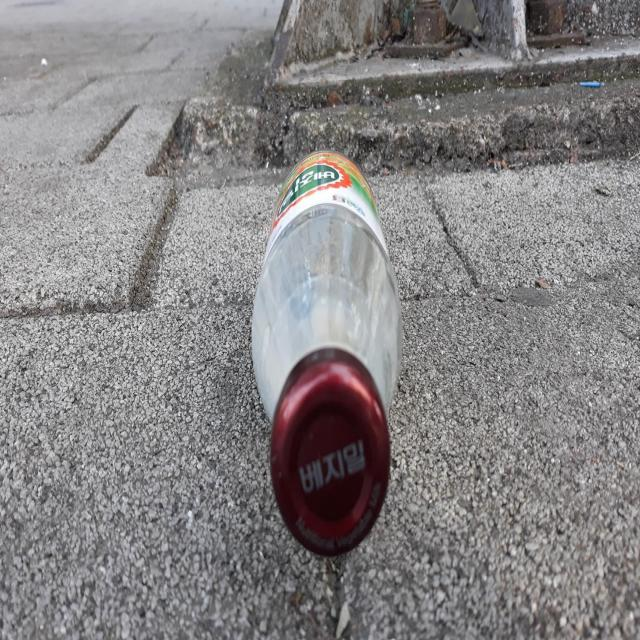glass: (252, 152, 402, 555)
